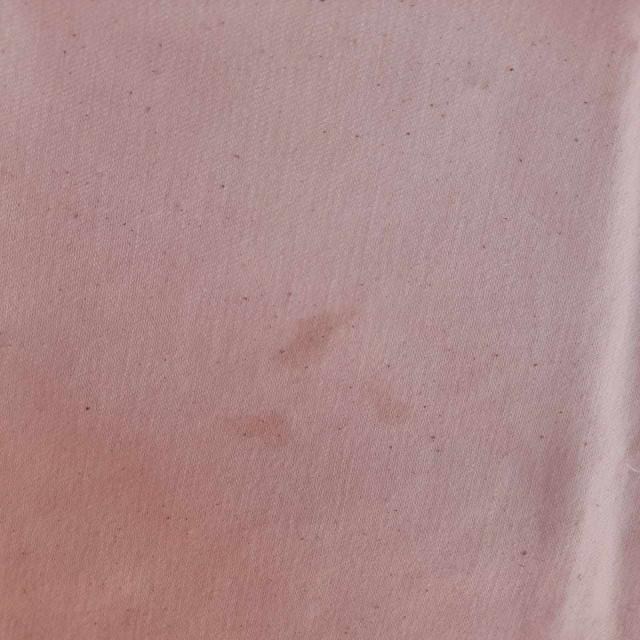taaaches: (258, 300, 349, 372), (220, 395, 311, 463), (371, 385, 422, 435)
